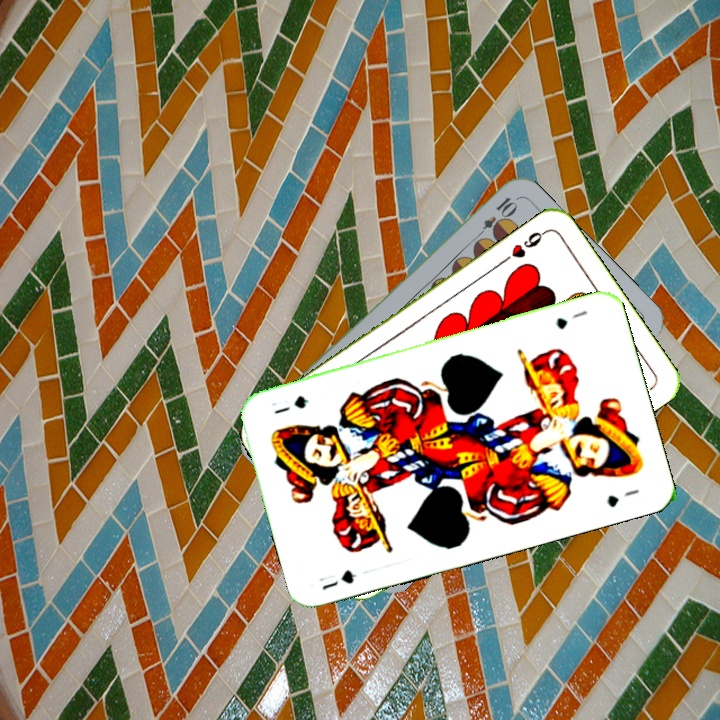E10: (471, 193, 519, 243)
GU: (315, 565, 360, 593), (552, 306, 590, 332)
H9: (498, 226, 550, 266)
